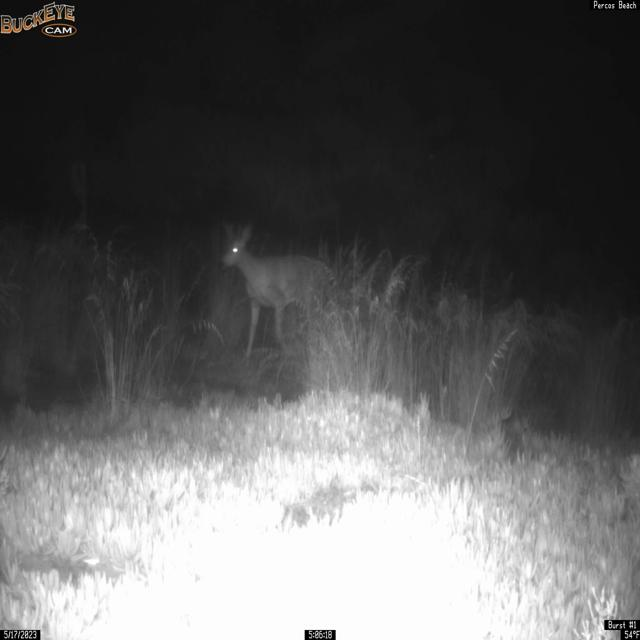deer: (219, 218, 339, 362)
